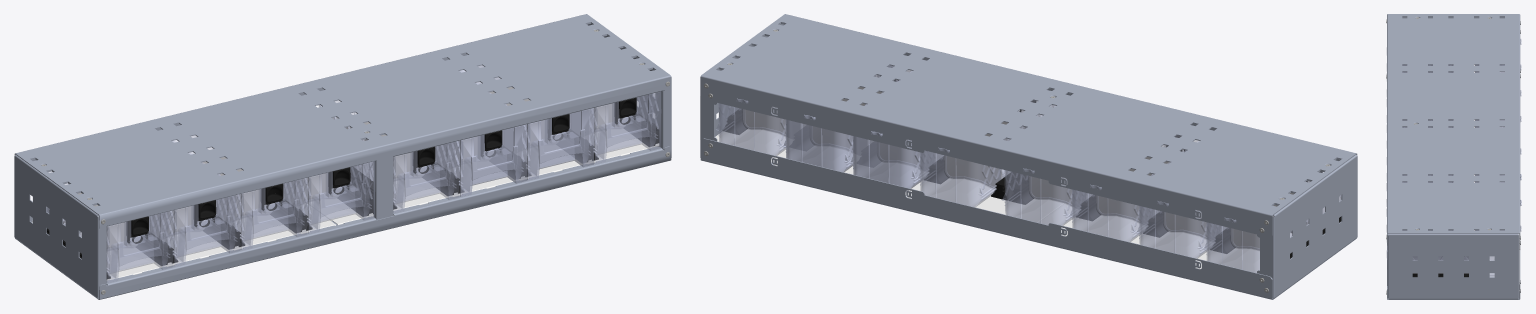
Rendered from KDU40426KD080.glb.
3 views of the same model, side by side, from view 1: azimuth 30°, elevation 25°; view 2: azimuth 150°, elevation 25°; view 3: azimuth 270°, elevation 25° (orthographic). The views are drawn at different scales.
Parts seen in each view (by area): view 1: A-YDU40426CRP-1/A-YDU40426COP-1, CTE-1226.CRP-1 (×10), A-YDU40426CRP-1/A-YDU40426COP-2, A-YDU40426CRP-1/A-YDU40426FNC-2, GLB-A-KDU40426KD080, CTE-12.DIV-1 (×6), ADF_MAPL.PULS.v03-1 (×8), A-YDU40426RPD-1, A-YDU40426RPS-2, A-YDU40426CRP-1/A-YDU40426FNC-1, A-YDU40426CRP-1/A-YDU40426RNF-1; view 2: A-YDU40426CRP-1/A-YDU40426COP-1, CTE-1226.CRP-1 (×10), A-YDU40426CRP-1/A-YDU40426COP-2, A-YDU40426CRP-1/A-YDU40426FNC-2, CTE-12.DIV-2 (×8), A-YDU40426RPD-1, A-YDU40426RPS-2, GLB-A-KDU40426KD080, A-YDU40426CRP-1/A-YDU40426FNC-1, ADF_COE.GUI.v02-13; view 3: A-YDU40426CRP-1/A-YDU40426COP-1, A-YDU40426CRP-1/A-YDU40426FNC-1, A-YDU40426CRP-1/A-YDU40426COP-2, CTE-1226.CRP-1, GLB-A-KDU40426KD080.
Part boxes in pixels (x1,y1,x2,y2): A-YDU40426CRP-1/A-YDU40426COP-1: (14,14,671,229); CTE-1226.CRP-1 (×10): (46,65,661,282); A-YDU40426CRP-1/A-YDU40426COP-2: (15,146,671,299); A-YDU40426CRP-1/A-YDU40426FNC-2: (14,155,106,298); GLB-A-KDU40426KD080: (136,113,659,265); CTE-12.DIV-1 (×6): (98,103,627,250); ADF_MAPL.PULS.v03-1 (×8): (126,97,636,243); A-YDU40426RPD-1: (308,129,659,225); A-YDU40426RPS-2: (32,203,335,280); A-YDU40426CRP-1/A-YDU40426FNC-1: (586,23,671,157); A-YDU40426CRP-1/A-YDU40426RNF-1: (361,134,393,219); A-YDU40426CRP-1/A-YDU40426COP-1: (700,14,1357,237); CTE-1226.CRP-1 (×10): (716,65,1341,272); A-YDU40426CRP-1/A-YDU40426COP-2: (700,138,1356,299); A-YDU40426CRP-1/A-YDU40426FNC-2: (1257,155,1357,298); CTE-12.DIV-2 (×8): (743,106,1273,250); A-YDU40426RPD-1: (715,129,1063,222); A-YDU40426RPS-2: (1039,203,1291,272); GLB-A-KDU40426KD080: (722,109,1235,253); A-YDU40426CRP-1/A-YDU40426FNC-1: (700,23,785,157); ADF_COE.GUI.v02-13: (991,172,1027,200); A-YDU40426CRP-1/A-YDU40426COP-1: (1387,14,1520,249); A-YDU40426CRP-1/A-YDU40426FNC-1: (1387,229,1519,299); A-YDU40426CRP-1/A-YDU40426COP-2: (1387,244,1520,299); CTE-1226.CRP-1: (1387,226,1521,277); GLB-A-KDU40426KD080: (1403,120,1478,277).
Size of the model in its own units: 1.01 by 0.144 by 0.2642.
